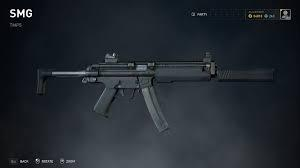rifle: (34, 47, 277, 133)
